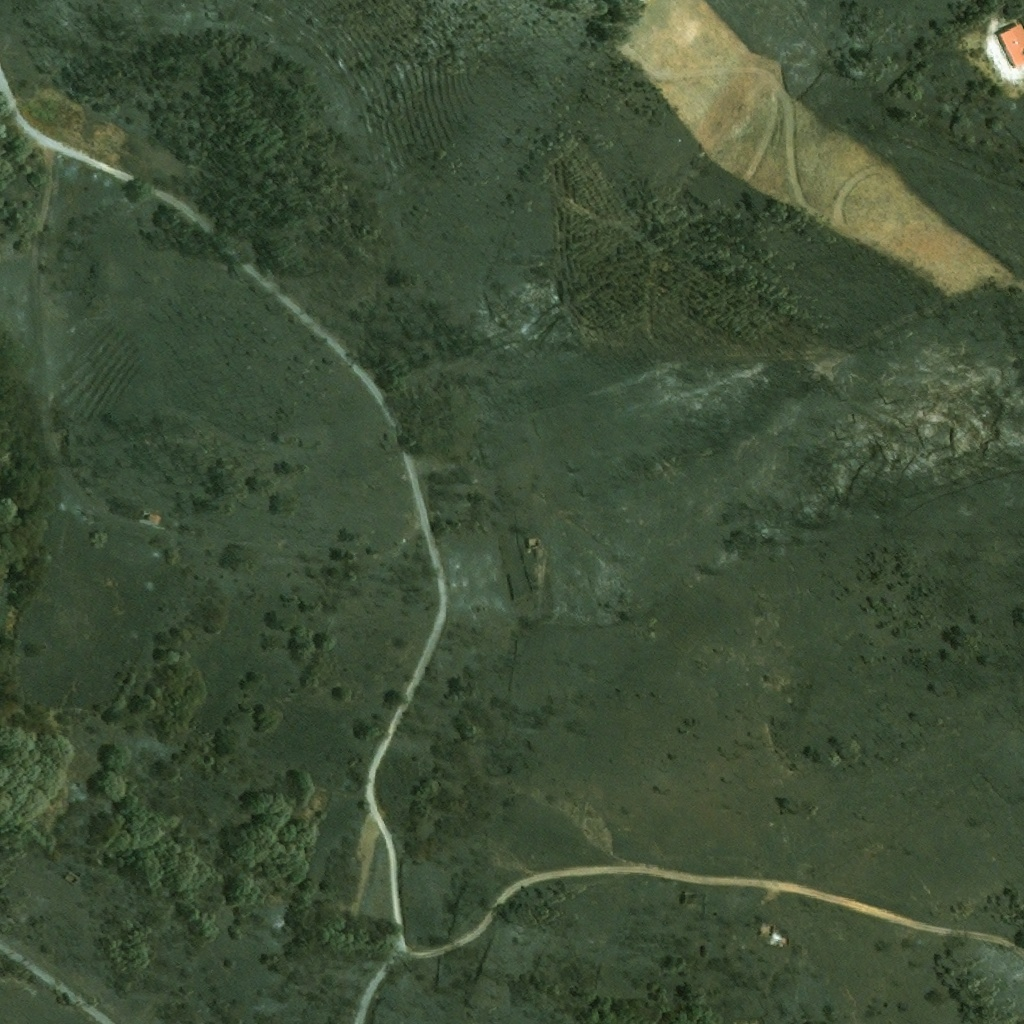0 no-damage: (995, 22, 1023, 69)
3 destroyed: (758, 918, 781, 942)
